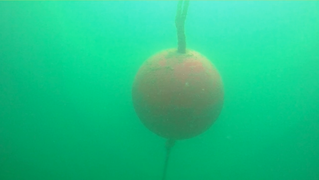buoy: (130, 48, 224, 141)
